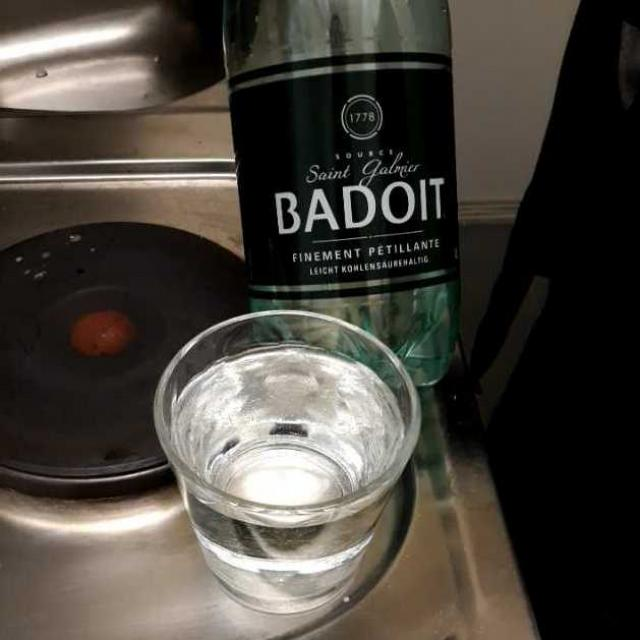water: (165, 356, 403, 534)
